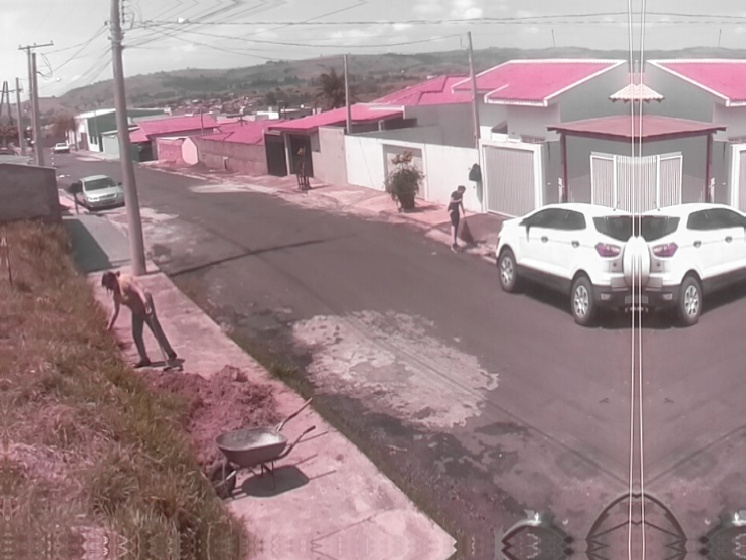person: (101, 269, 179, 372), (446, 185, 468, 255)
